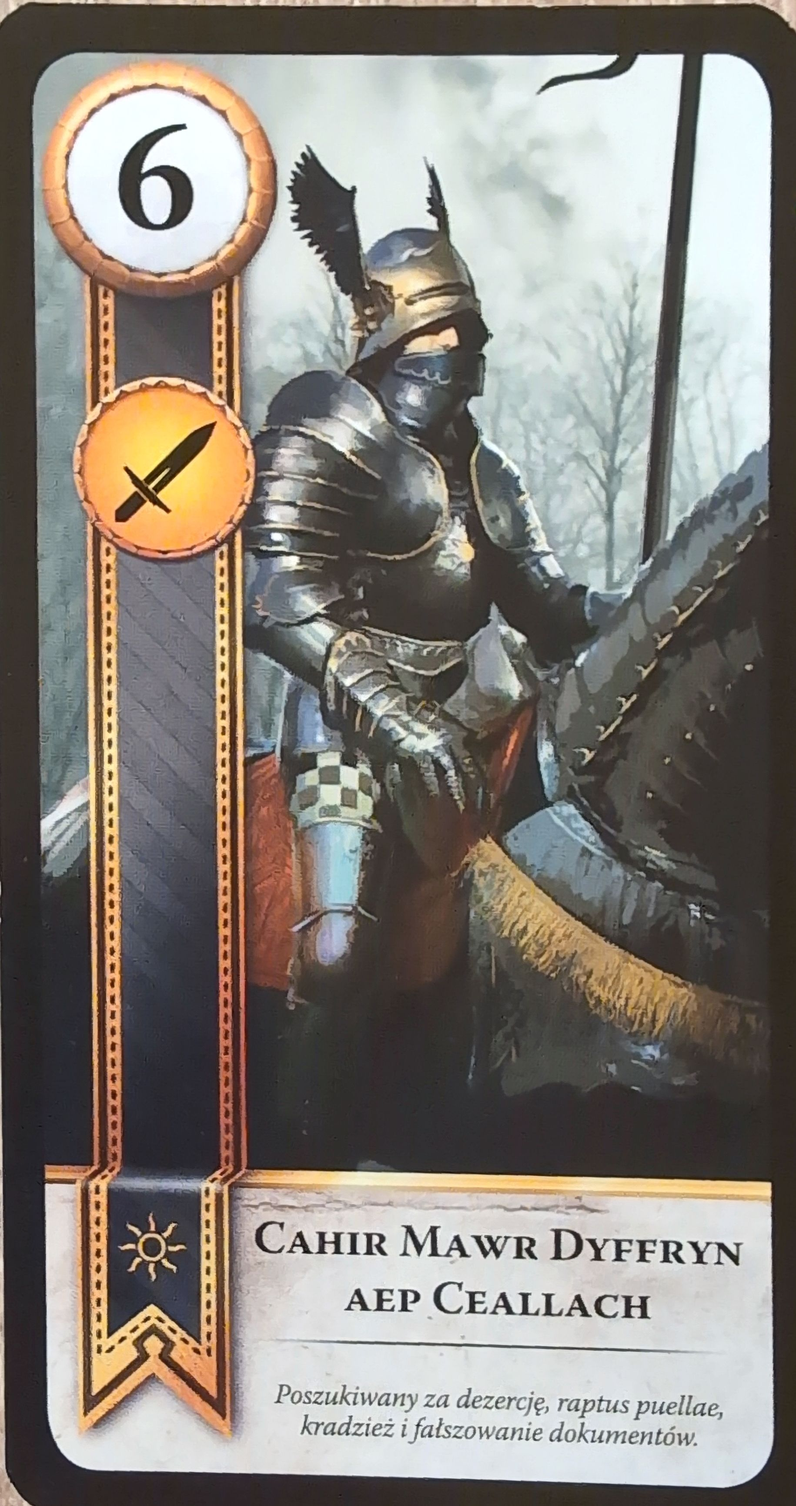6: (39, 57, 277, 302)
miecz: (72, 374, 257, 563)
